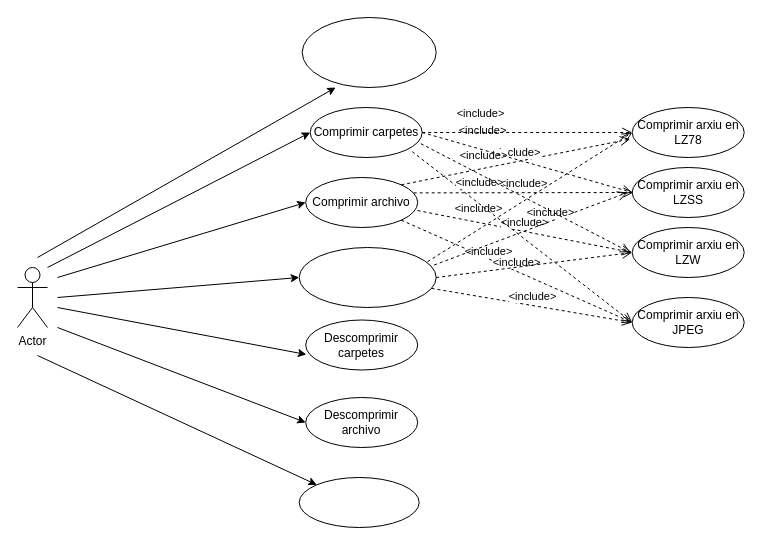
This 762x545 diagram has some shape labels left out. Here are the shapes that lost their labels. From the top down, the centre of each, then its label:
At (x=368, y=52): "Estadisticas generales de los algoritmos".
At (x=367, y=277): "Comparación ficheros entrada/salida".
At (x=358, y=502): "Salir".
